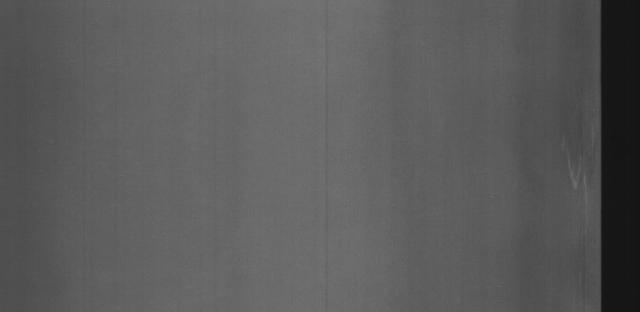silk_spot: (552, 116, 598, 210)
